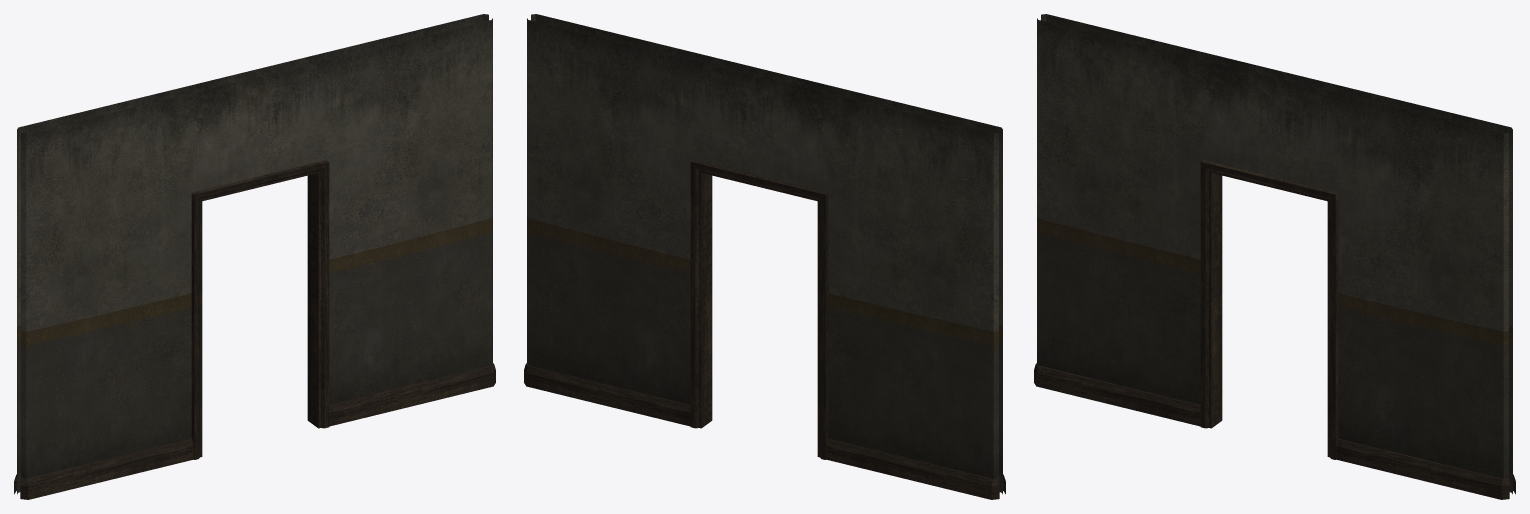
Rendered from doorway_1.dae.
3 views of the same model, side by side, from view 1: azimuth 30°, elevation 25°; view 2: azimuth 150°, elevation 25°; view 3: azimuth 330°, elevation 25° (orthographic).
Parts seen in each view (by area): view 1: doorway_1; view 2: doorway_1; view 3: doorway_1.
Part boxes in pixels (x1,y1,x2,y2): doorway_1: [14, 14, 495, 499]; doorway_1: [524, 14, 1005, 499]; doorway_1: [1034, 14, 1515, 499].
Size of the model in its own units: 4.09 by 0.2 by 3.
Materials: 2 (2 with a texture image).
